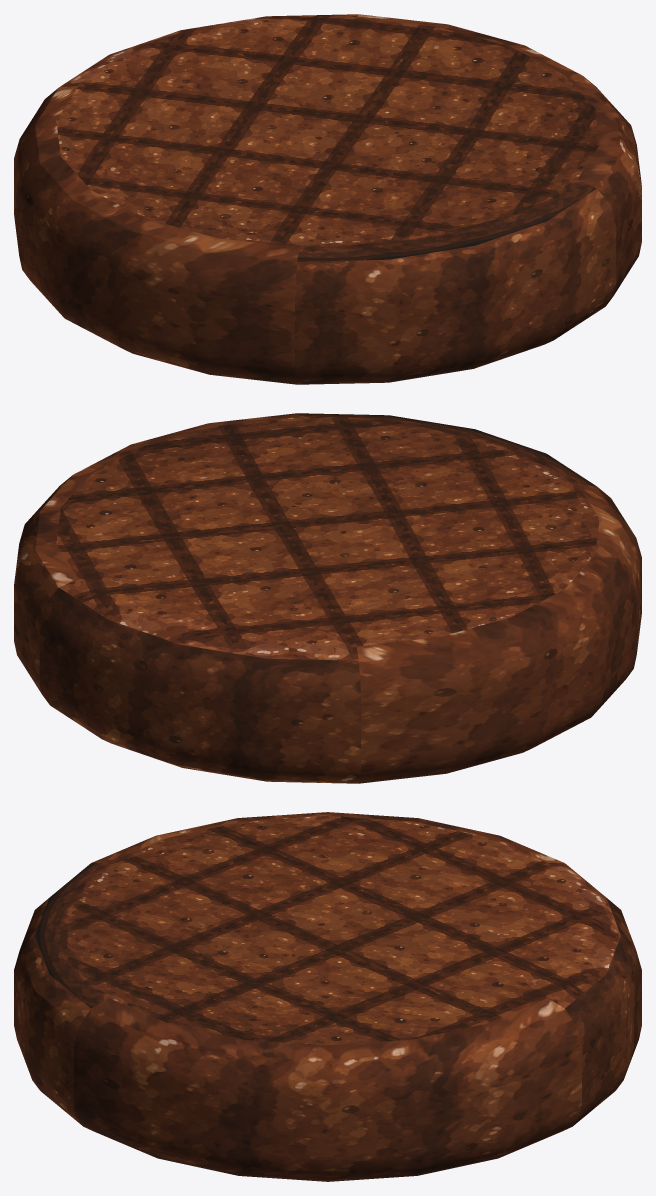
The model's file is Carne_Cocida.fbx.
3 views of the same model, one above another, from view 1: azimuth 30°, elevation 25°; view 2: azimuth 150°, elevation 25°; view 3: azimuth 270°, elevation 25° (orthographic).
Visible parts, largest first — view 1: Carne_CocInada; view 2: Carne_CocInada; view 3: Carne_CocInada.
Part boxes in pixels (x1,y1,x2,y2): Carne_CocInada: (14,14,641,384); Carne_CocInada: (14,413,641,783); Carne_CocInada: (14,812,641,1181).
Size of the model in its own units: 1.59 by 0.3693 by 1.59.
Materials: 1 (1 with a texture image).
